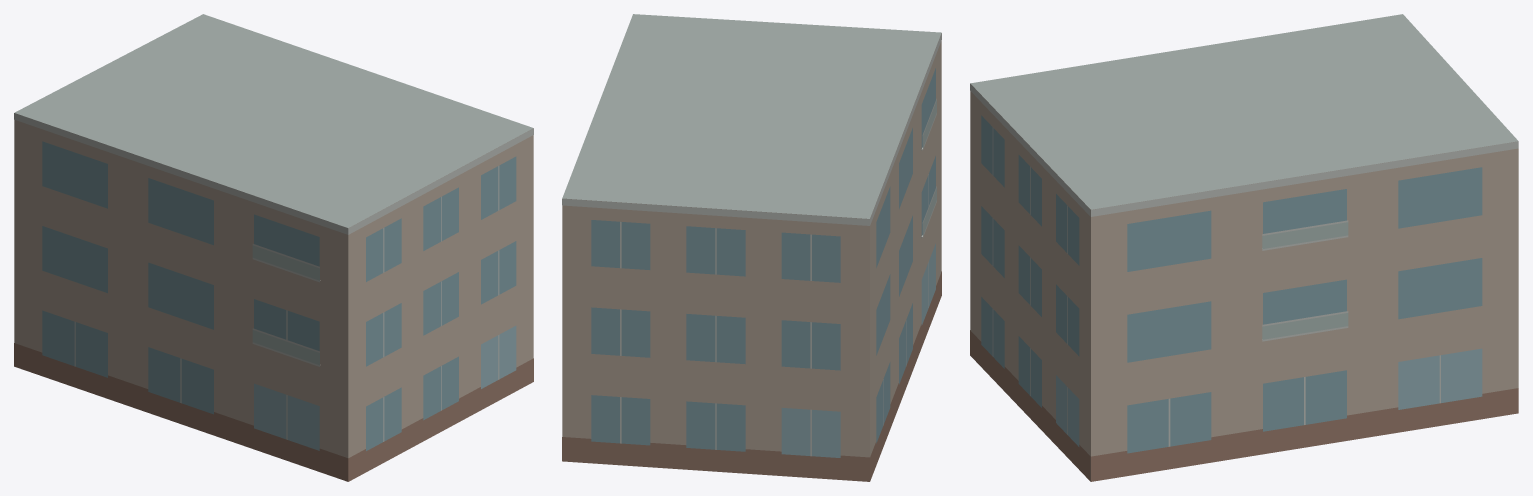
File: survey-upis-32698441.glb
The picture shows the model from 3 angles, left to right: view 1: azimuth 30°, elevation 25°; view 2: azimuth 150°, elevation 25°; view 3: azimuth 270°, elevation 25°; orthographic projection. The views are drawn at different scales.
Visible parts, largest first — view 1: survey-upis-32698441.tmp; view 2: survey-upis-32698441.tmp; view 3: survey-upis-32698441.tmp.
Boxes of the visible parts, left/top/right/bottom form: survey-upis-32698441.tmp: left=14, top=14, right=533, bottom=481; survey-upis-32698441.tmp: left=562, top=14, right=941, bottom=481; survey-upis-32698441.tmp: left=970, top=14, right=1518, bottom=481.
Size of the model in its own units: 14.13 by 9.15 by 16.73.
